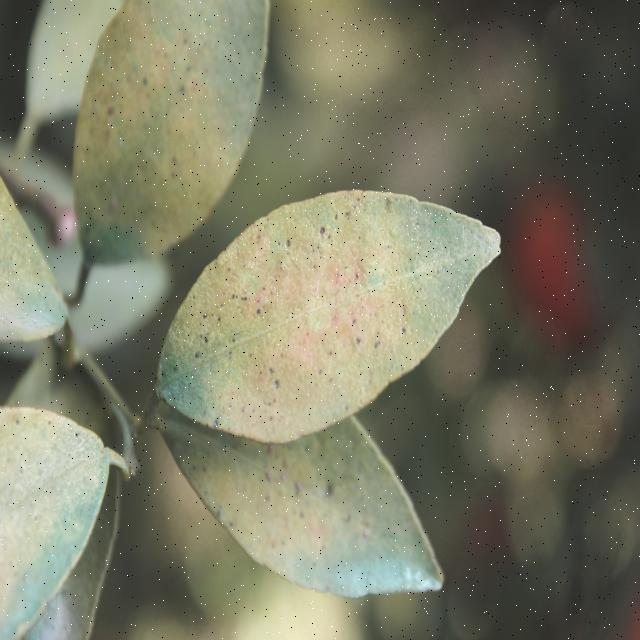blackspot: (162, 183, 460, 439), (44, 1, 253, 245), (174, 409, 431, 576), (0, 408, 108, 634)
